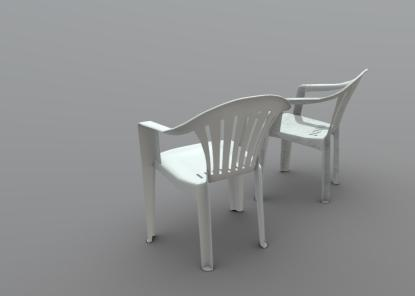chair: (131, 91, 292, 278), (279, 64, 374, 211)
